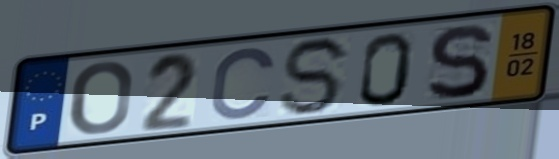0: (356, 29, 418, 109)
2: (136, 49, 202, 134)
C: (207, 44, 280, 123)
O: (68, 59, 135, 138)
S: (277, 34, 355, 119), (424, 21, 494, 104)
